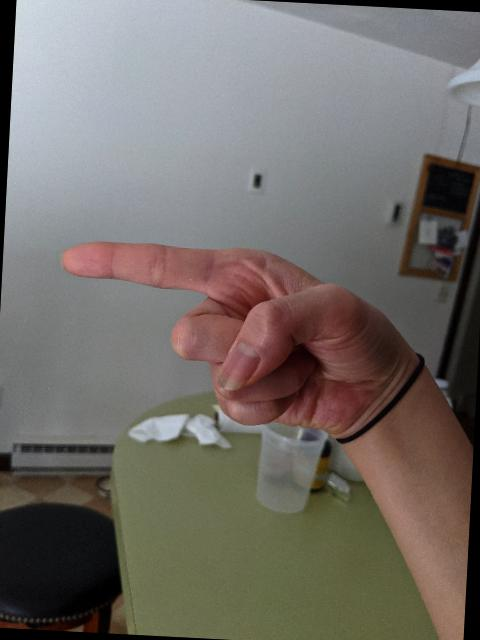G: (48, 232, 418, 447)
